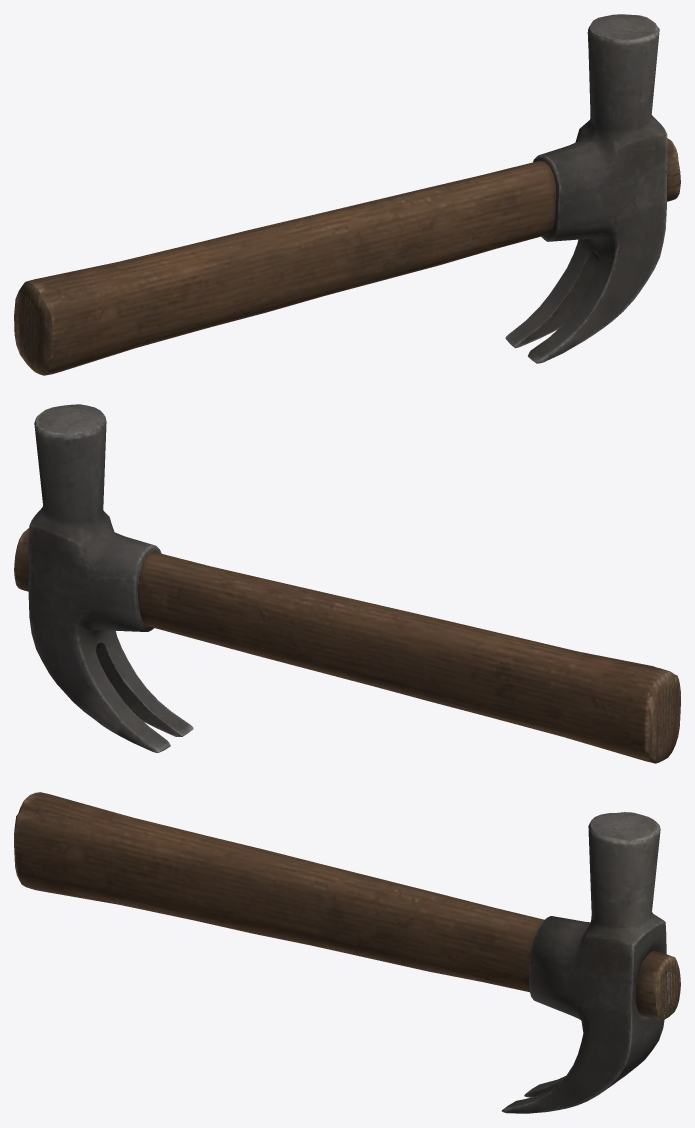
File: hammer.glb
3 views of the same model, one above another, from view 1: azimuth 30°, elevation 25°; view 2: azimuth 150°, elevation 25°; view 3: azimuth 330°, elevation 25° (orthographic).
Visible parts, largest first — view 1: hammer, Object008 #331122; view 2: hammer, Object008 #331122; view 3: hammer, Object008 #331122.
Part boxes in pixels (<box>): hammer: <box>14,138,680,375</box>; Object008 #331122: <box>505,14,667,363</box>; hammer: <box>14,528,680,763</box>; Object008 #331122: <box>28,404,193,752</box>; hammer: <box>14,792,680,1019</box>; Object008 #331122: <box>501,812,666,1113</box>.
Bounding box in the file's own units: 2.67 × 1.2 × 0.2717.
1 material, 1 textured.
